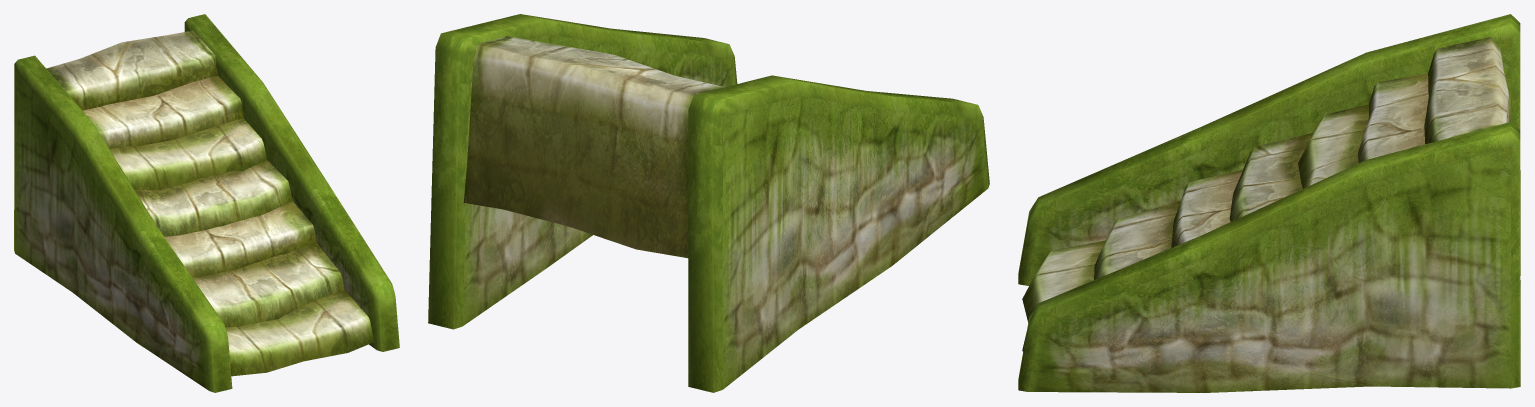
The model's file is stairs.FBX.
3 views of the same model, side by side, from view 1: azimuth 30°, elevation 25°; view 2: azimuth 150°, elevation 25°; view 3: azimuth 270°, elevation 25° (orthographic). The views are drawn at different scales.
Visible parts, largest first — view 1: stairs; view 2: stairs; view 3: stairs.
Part boxes in pixels (box(x1,y1,x2,y2)): stairs: box(14, 14, 399, 392); stairs: box(428, 14, 989, 392); stairs: box(1018, 14, 1520, 392).
Size of the model in its own units: 5.42 by 5.17 by 9.21.
